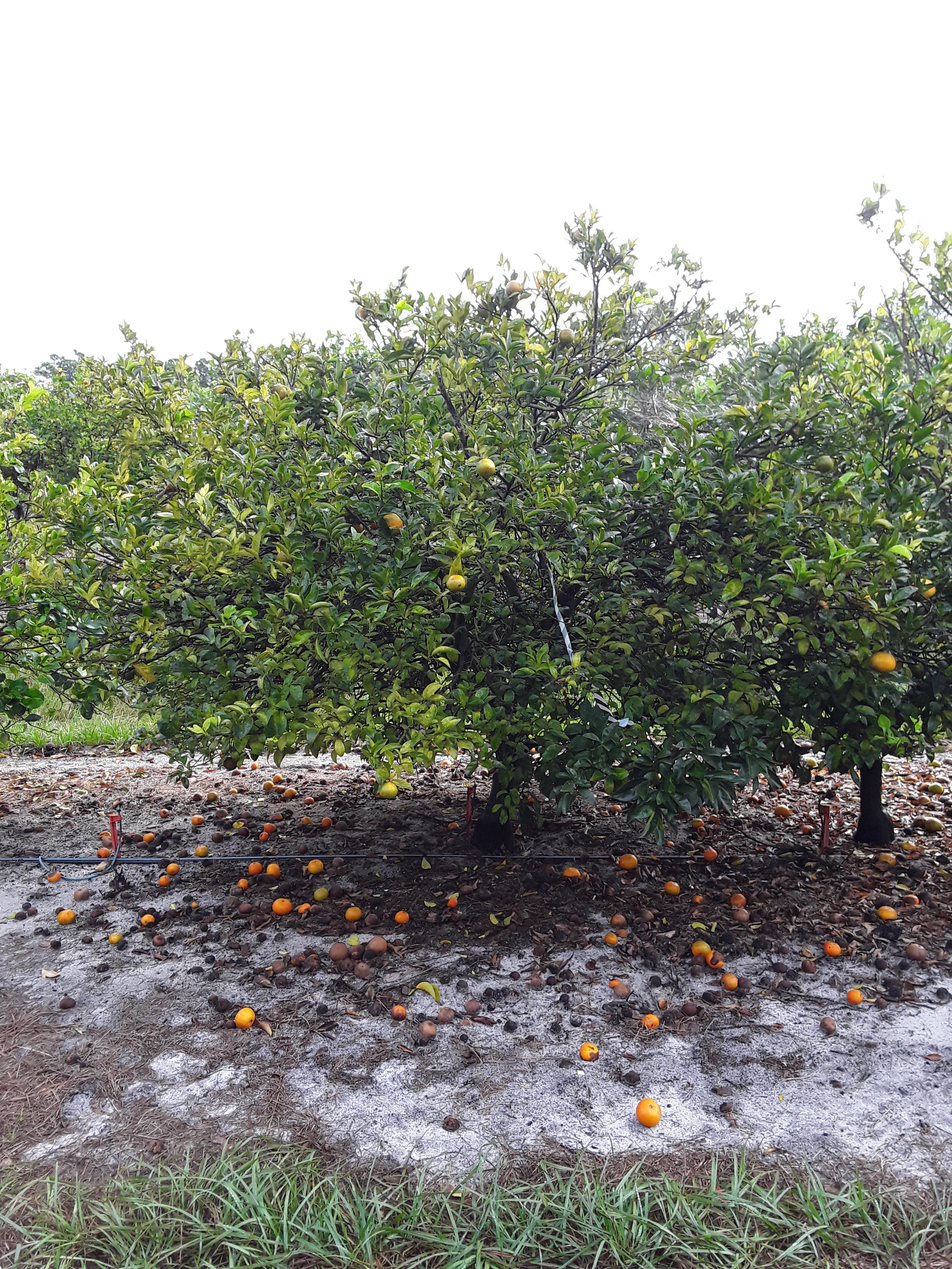fruit_on_ground: (867, 648, 898, 675), (913, 574, 940, 601), (378, 509, 406, 534), (853, 585, 880, 610), (473, 455, 498, 479), (444, 570, 470, 593), (812, 451, 836, 474), (376, 780, 400, 801), (439, 428, 461, 447), (556, 325, 576, 345), (814, 596, 834, 614), (505, 277, 525, 295), (351, 302, 370, 320), (220, 755, 239, 771)
fruit_on_tree: (635, 1097, 663, 1127), (234, 1005, 257, 1030), (905, 941, 928, 963), (416, 1021, 439, 1042), (579, 1040, 600, 1062), (904, 862, 927, 881), (875, 851, 898, 870), (367, 935, 388, 955), (923, 815, 945, 834), (617, 852, 639, 871), (271, 896, 292, 915), (898, 836, 921, 853), (442, 1114, 462, 1133), (329, 941, 349, 960), (208, 993, 230, 1010), (876, 904, 898, 921), (56, 907, 76, 925), (706, 951, 726, 969), (899, 891, 920, 908), (690, 939, 711, 956), (641, 1012, 660, 1030), (823, 939, 842, 957), (562, 864, 582, 881), (731, 905, 751, 922), (352, 961, 370, 979), (437, 1005, 455, 1023), (846, 987, 864, 1005), (390, 1003, 408, 1021), (344, 904, 363, 921), (305, 858, 325, 874), (614, 980, 632, 997), (819, 1016, 836, 1034), (729, 891, 747, 908), (721, 972, 739, 989), (926, 780, 945, 796), (72, 886, 91, 902), (774, 802, 793, 818), (663, 879, 682, 895), (273, 974, 293, 989), (873, 893, 893, 908), (660, 1009, 676, 1027), (719, 930, 737, 946), (58, 994, 76, 1010), (329, 884, 348, 899), (681, 1000, 698, 1016), (800, 958, 817, 974), (702, 846, 719, 862), (364, 914, 382, 929), (145, 926, 163, 941), (271, 957, 289, 972), (312, 885, 330, 900), (738, 975, 754, 991), (826, 974, 843, 989), (254, 972, 271, 987), (625, 1069, 642, 1084), (873, 955, 890, 970), (463, 997, 480, 1012), (393, 909, 410, 924), (264, 862, 281, 877), (700, 988, 718, 1002), (648, 972, 663, 988), (532, 941, 548, 956), (290, 952, 305, 968), (604, 930, 619, 945), (205, 968, 221, 982), (86, 909, 102, 923), (911, 815, 927, 829), (346, 933, 360, 949), (540, 862, 556, 876), (691, 817, 707, 831), (306, 954, 320, 970), (544, 972, 560, 986), (610, 912, 626, 926), (46, 869, 62, 883), (639, 907, 655, 921), (140, 912, 156, 926), (108, 931, 124, 945), (247, 861, 263, 875), (614, 925, 629, 939), (527, 974, 542, 988), (194, 843, 209, 857), (772, 960, 788, 973), (460, 881, 476, 894), (477, 1013, 494, 1025), (936, 947, 950, 961), (215, 806, 229, 820), (445, 895, 459, 909), (314, 1002, 329, 1015), (503, 1019, 518, 1032), (829, 910, 844, 923), (703, 814, 718, 827), (297, 900, 312, 913), (151, 933, 166, 946), (97, 846, 112, 859), (210, 830, 225, 843), (282, 785, 297, 798), (456, 1014, 472, 1026), (96, 830, 110, 843), (875, 997, 889, 1010), (142, 830, 156, 843), (319, 816, 333, 829), (238, 900, 252, 913), (166, 862, 180, 875), (237, 876, 250, 889), (192, 813, 205, 826), (203, 953, 217, 965), (14, 907, 28, 919), (237, 826, 251, 838), (798, 822, 812, 834), (707, 812, 721, 824), (609, 803, 623, 815), (606, 977, 620, 989), (205, 789, 219, 801), (257, 832, 272, 843), (189, 963, 202, 975), (481, 985, 494, 997), (523, 792, 536, 804), (26, 905, 39, 917), (656, 998, 669, 1010), (271, 773, 284, 785), (158, 874, 171, 886), (305, 946, 319, 957), (177, 846, 191, 857), (331, 855, 345, 866), (446, 819, 460, 830), (262, 821, 276, 832), (262, 779, 274, 791), (190, 791, 203, 802), (271, 812, 284, 823), (296, 843, 309, 854), (80, 933, 93, 944), (438, 759, 452, 769), (692, 893, 704, 904), (303, 795, 315, 806), (332, 761, 345, 771), (663, 838, 674, 849), (509, 970, 521, 980), (158, 808, 170, 818), (301, 816, 313, 826), (189, 900, 200, 910), (228, 785, 240, 794), (250, 760, 260, 770)
